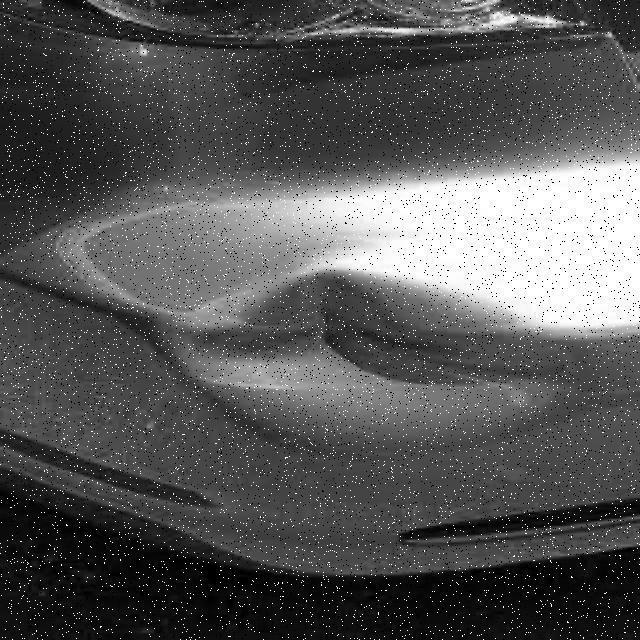rear-bumper-dent: (0, 133, 636, 591)
